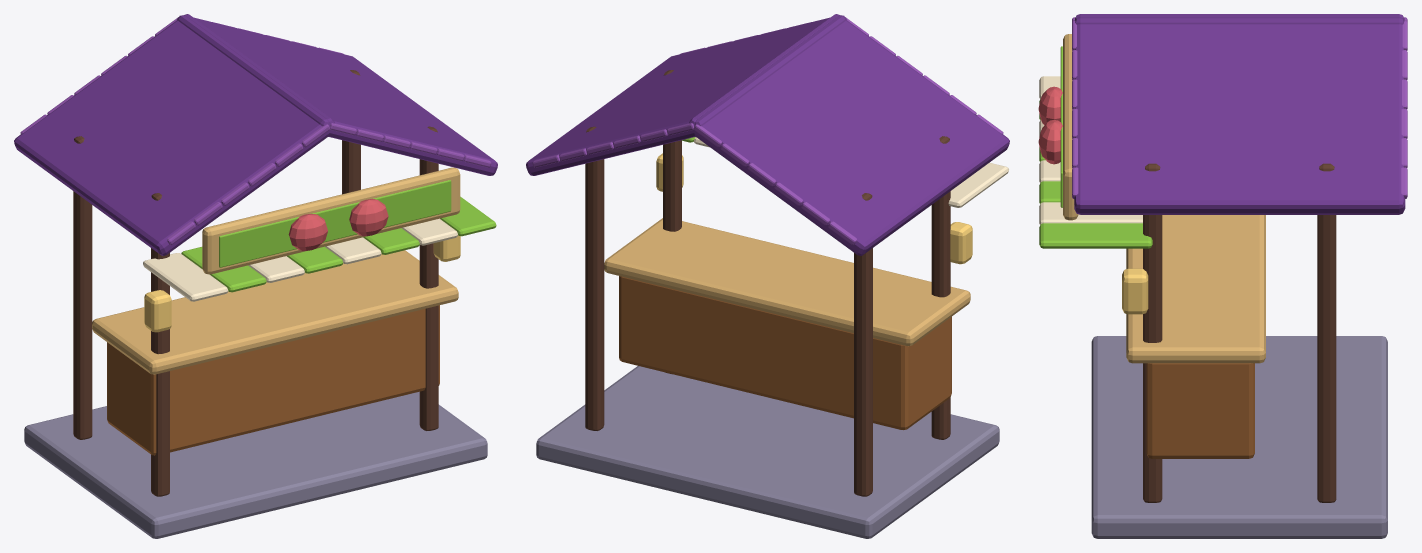
Rendered from Pavilion_Brawler.glb.
The picture shows the model from 3 angles, left to right: view 1: azimuth 30°, elevation 25°; view 2: azimuth 150°, elevation 25°; view 3: azimuth 270°, elevation 25°; orthographic projection. The views are drawn at different scales.
Parts seen in each view (by area): view 1: Roof.002, StoneBase.001, Counter.001, CounterTop.001, Roof.003, SignInset.001, Sign.001, Post.005, Post.006, Post.004, AwningStripe.008, AwningStripe.009 (+11 smaller); view 2: StoneBase.001, Roof.002, Counter.001, CounterTop.001, Roof.003, Post.007, Post.005, Post.004, Post.006, AwningStripe.008, Lantern.002; view 3: Roof.003, StoneBase.001, CounterTop.001, Counter.001, Post.007, Post.006, Roof.002, AwningStripe.015, Sign.001, Lantern.003, AwningStripe.014, Glove.001 (+3 smaller).
Part boxes in pixels (x1,y1,x2,y2): Roof.002: [14, 14, 334, 255]; StoneBase.001: [24, 391, 487, 538]; Counter.001: [107, 305, 439, 455]; CounterTop.001: [92, 250, 458, 374]; Roof.003: [177, 15, 497, 175]; SignInset.001: [219, 180, 451, 267]; Sign.001: [202, 167, 460, 274]; Post.005: [73, 136, 92, 439]; Post.006: [419, 126, 438, 430]; Post.004: [151, 193, 169, 496]; AwningStripe.008: [143, 253, 228, 301]; AwningStripe.009: [181, 247, 266, 292]; StoneBase.001: [536, 366, 999, 538]; Roof.002: [689, 14, 1009, 255]; Counter.001: [619, 276, 951, 430]; CounterTop.001: [604, 218, 970, 346]; Roof.003: [526, 15, 846, 175]; Post.007: [585, 126, 604, 430]; Post.005: [854, 193, 872, 496]; Post.004: [931, 136, 950, 439]; Post.006: [663, 70, 681, 373]; AwningStripe.008: [948, 162, 1008, 207]; Lantern.002: [950, 222, 972, 264]; Roof.003: [1074, 14, 1405, 214]; StoneBase.001: [1091, 336, 1387, 538]; CounterTop.001: [1126, 215, 1265, 363]; Counter.001: [1146, 363, 1254, 458]; Post.007: [1317, 163, 1336, 502]; Post.006: [1143, 163, 1162, 502]; Roof.002: [1075, 16, 1404, 24]; AwningStripe.015: [1039, 223, 1152, 248]; Sign.001: [1063, 34, 1078, 220]; Lantern.003: [1122, 268, 1148, 314]; AwningStripe.014: [1039, 202, 1142, 224]; Glove.001: [1038, 120, 1062, 164].
Bounding box in the file's own units: 5.07 × 5.49 × 4.24.
